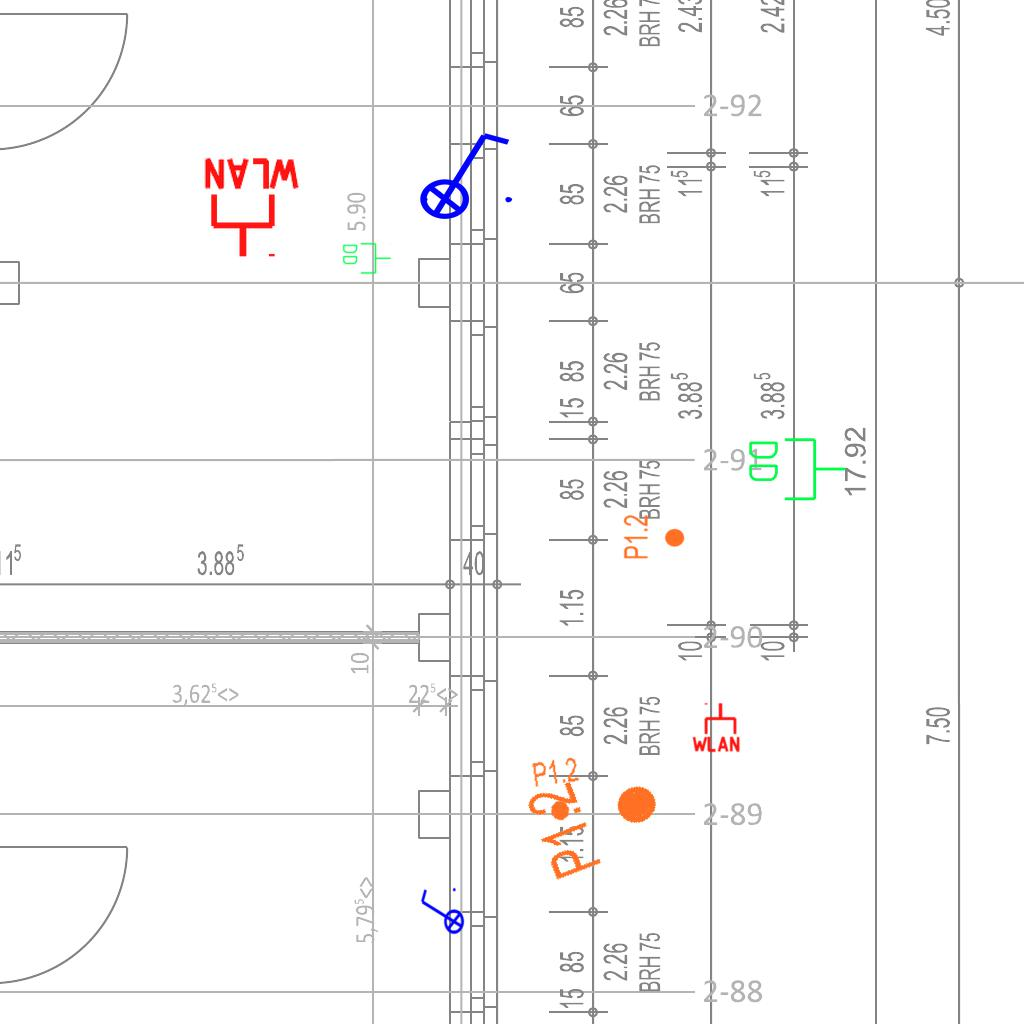Ausschalter_beleuchtet: (406, 125, 518, 221), (417, 885, 465, 941)
Datenanschluss_zweifach: (745, 434, 848, 503), (341, 241, 392, 275)
Downlight_LED_Einbauleuchten_Flur: (521, 751, 674, 885), (530, 755, 586, 825), (622, 514, 686, 560)
WLAN: (200, 156, 304, 261), (690, 701, 742, 753)
